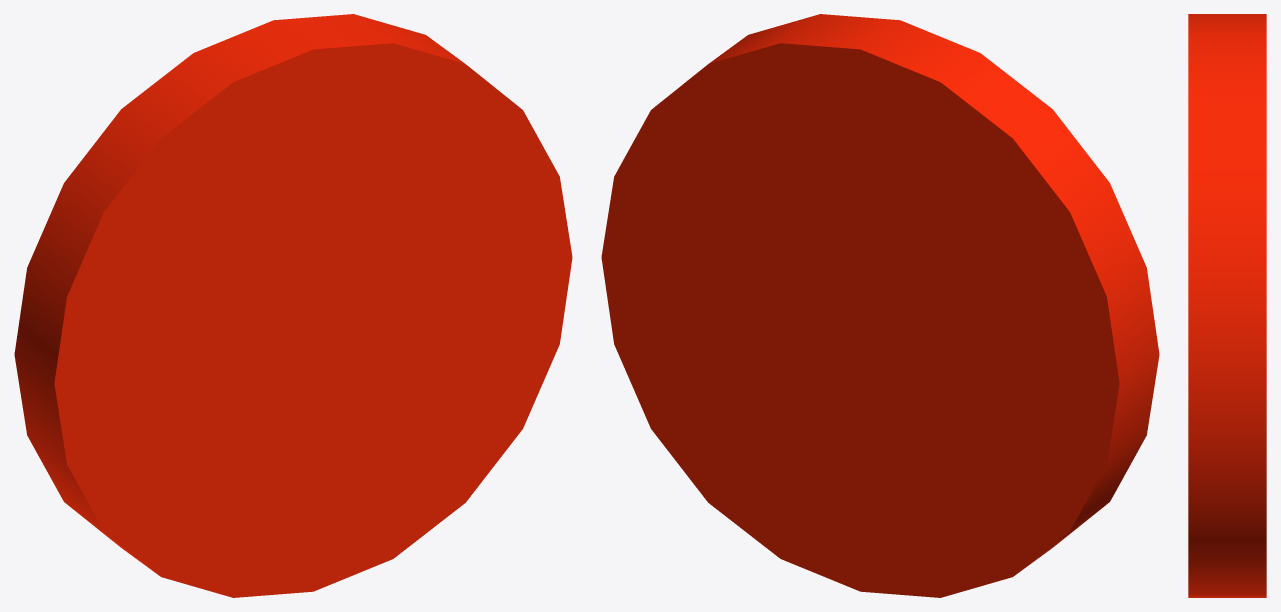
The picture shows the model from 3 angles, left to right: view 1: azimuth 30°, elevation 25°; view 2: azimuth 150°, elevation 25°; view 3: azimuth 270°, elevation 25°; orthographic projection.
Visible parts, largest first — view 1: A; view 2: A; view 3: A.
Boxes of the visible parts, box(x1,y1,x2,y2) form: A: box(14, 14, 572, 597); A: box(601, 14, 1159, 597); A: box(1188, 14, 1266, 597).
Bounding box in the file's own units: 3 × 3 × 0.4.
